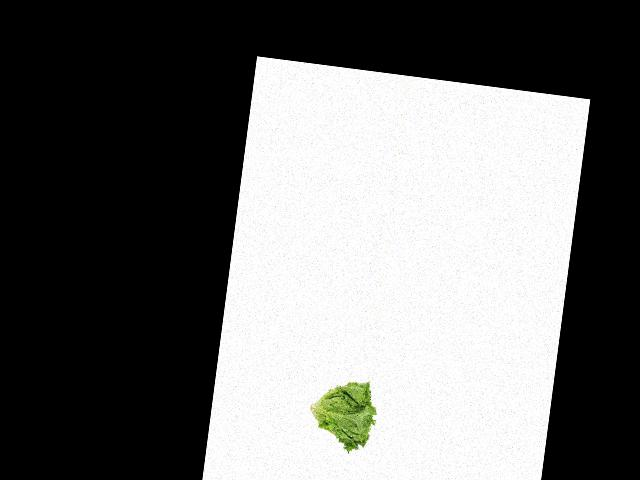lettuce: (303, 373, 383, 453)
